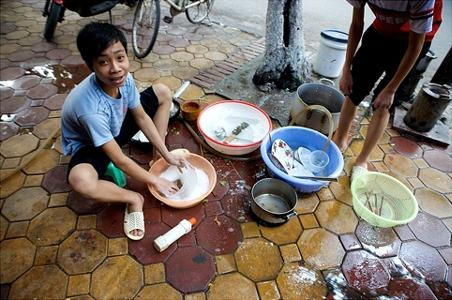person: (63, 22, 192, 239)
